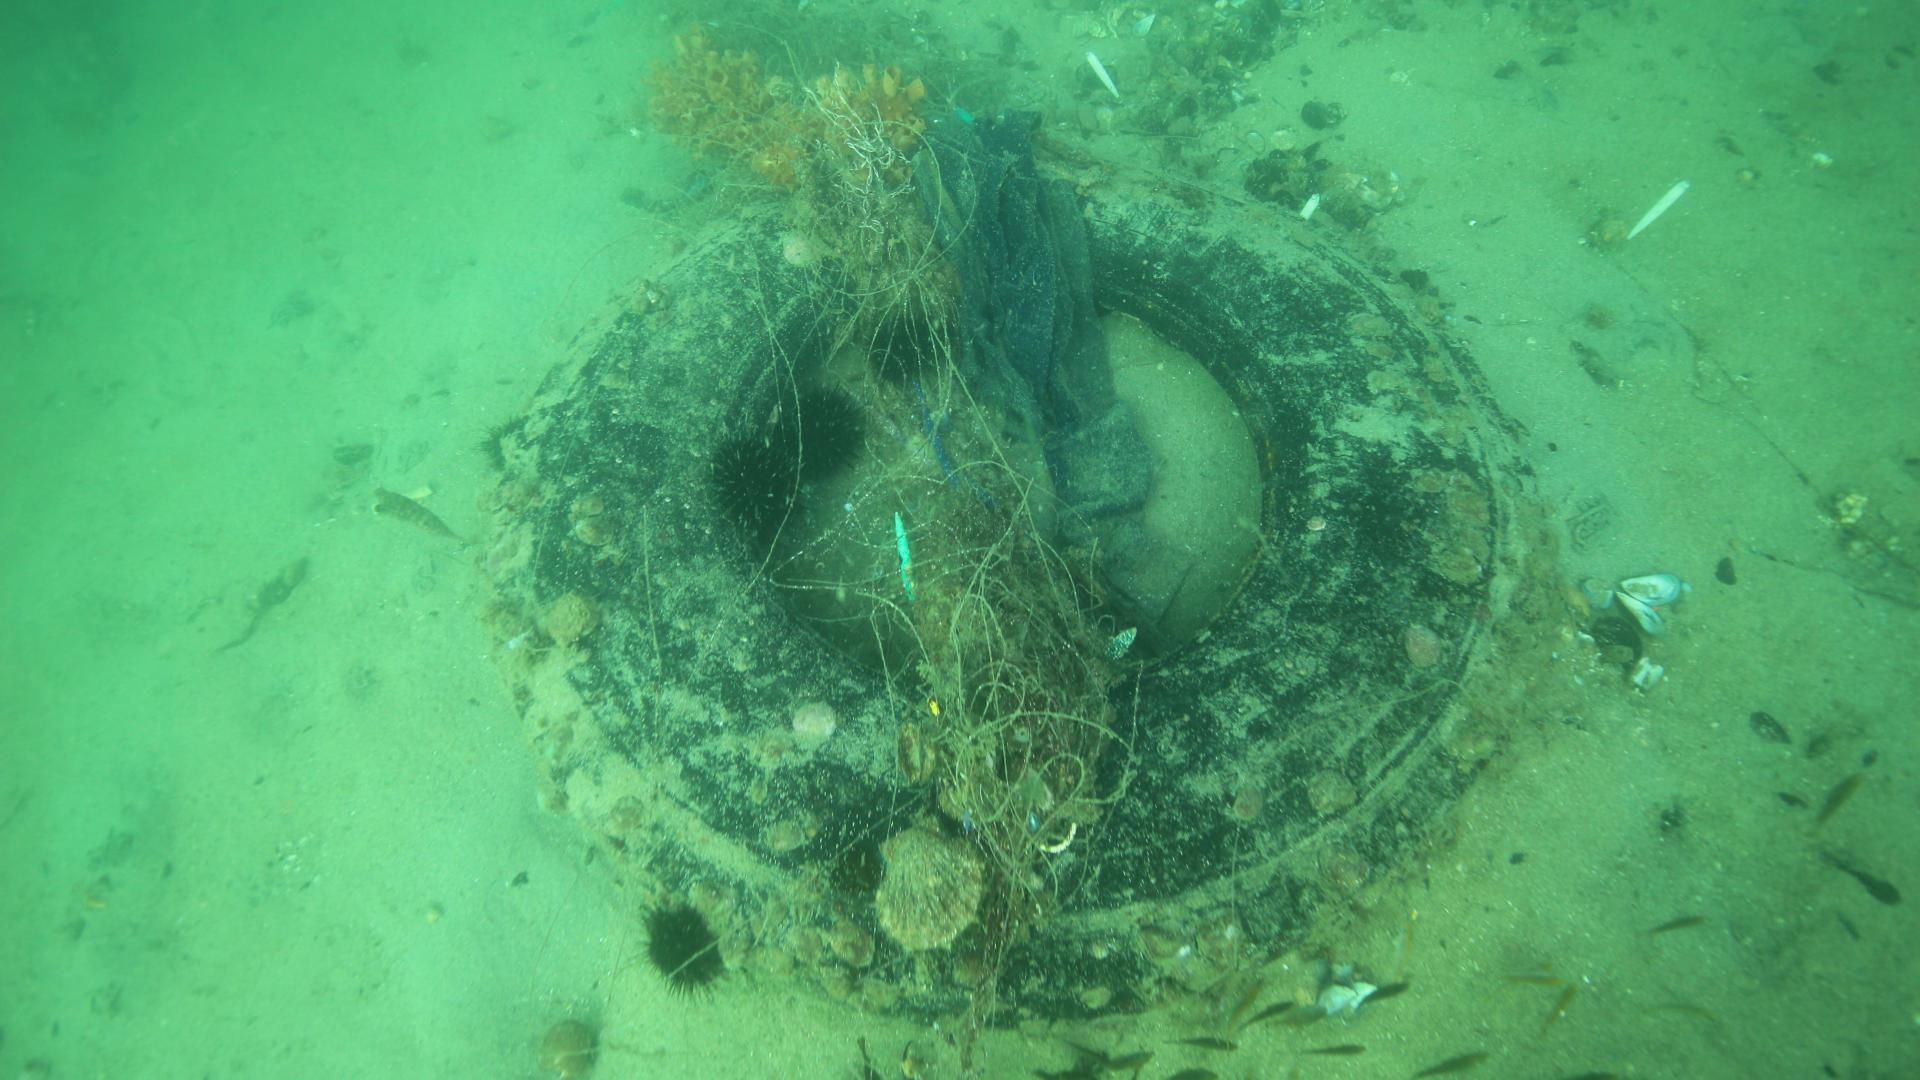tire: (481, 129, 1559, 1029)
